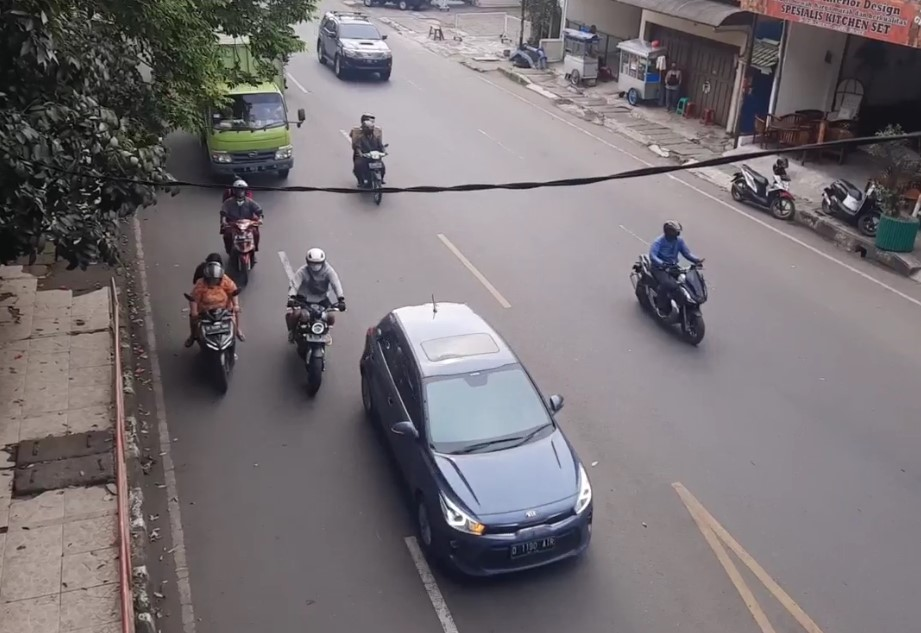mobil: (421, 363, 594, 574), (202, 95, 295, 185), (334, 20, 394, 83)
motor: (628, 214, 715, 356), (281, 248, 347, 399), (183, 250, 249, 400), (343, 112, 406, 207), (223, 179, 272, 278)
